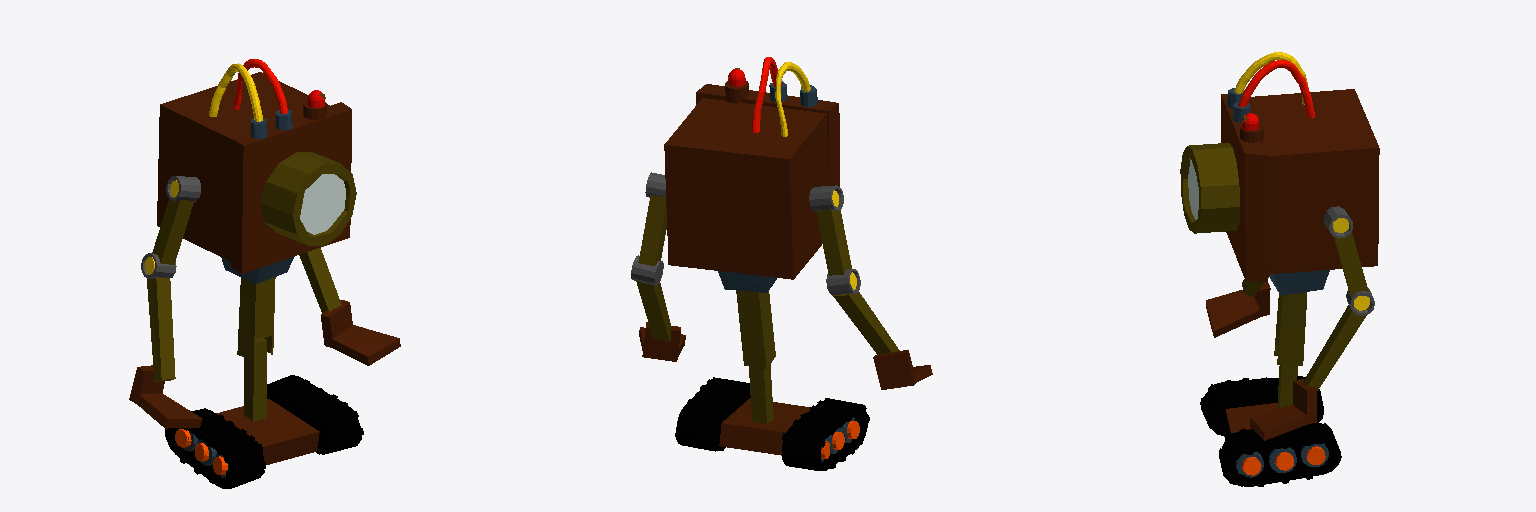
Rendered from robot.obj.
The picture shows the model from 3 angles: view 1: azimuth 30°, elevation 25°; view 2: azimuth 150°, elevation 25°; view 3: azimuth 270°, elevation 25°; orthographic projection.
Visible parts, largest first — view 1: group[number redacted]; view 2: group[number redacted]; view 3: group[number redacted].
Part boxes in pixels (bbox=[...]): group[number redacted]: bbox=[129, 59, 400, 488]; group[number redacted]: bbox=[631, 57, 932, 470]; group[number redacted]: bbox=[1180, 52, 1379, 486].
Size of the model in its own units: 72.62 by 99.77 by 45.79.